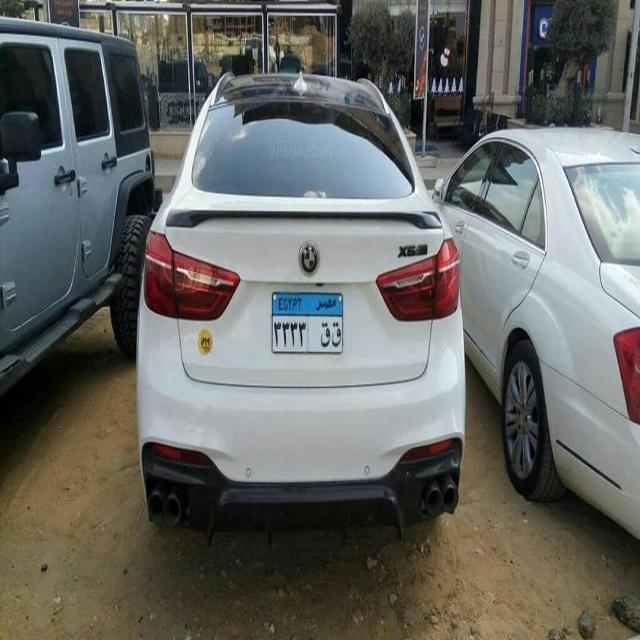License Plate: (269, 287, 346, 358)
